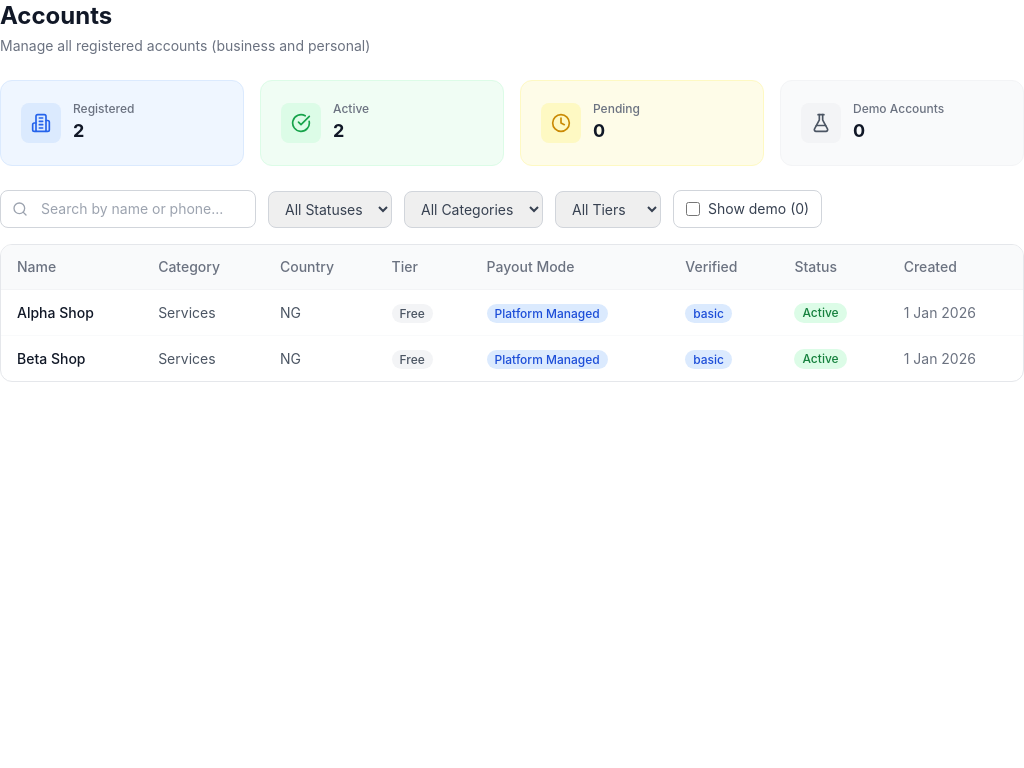
Test case: #762 actual Businesses ancillary resource parity › uses stock_quantity, retains zero/null, scopes every read and masks both accounts
This screenshot has width=1024, height=768.
Click the text "Alpha Shop" at (55, 312), box [17,304,94,320]
(page scrolled)
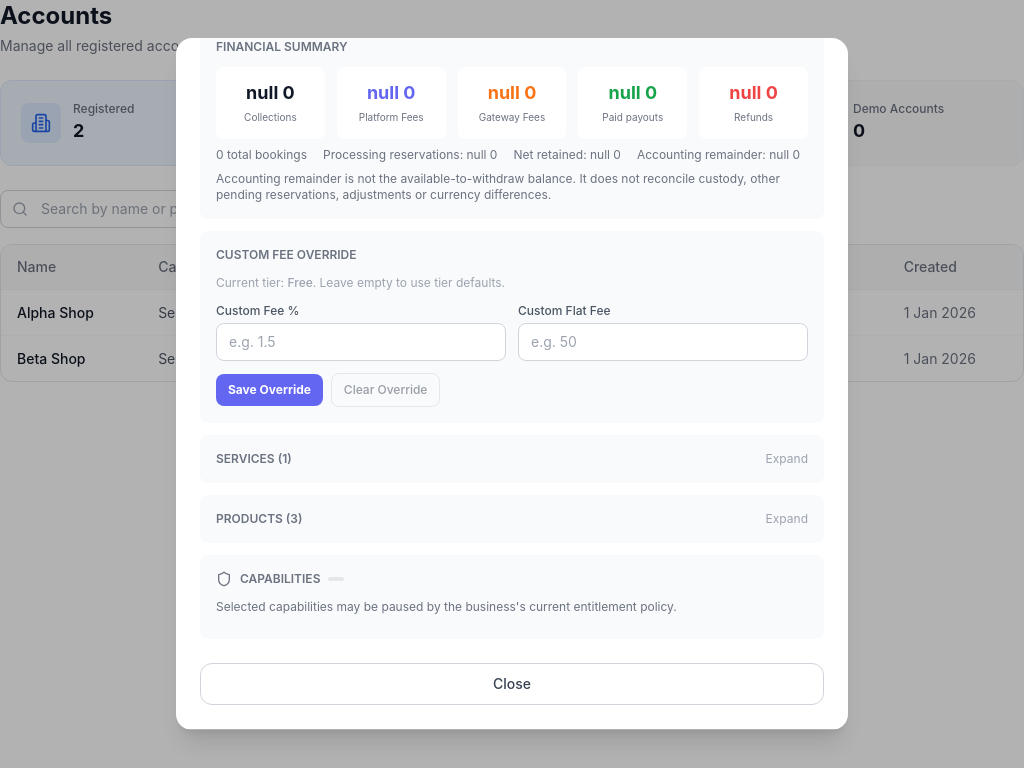
Click the button "Services (1) Expand" at (245, 459), box [216,451,808,467]
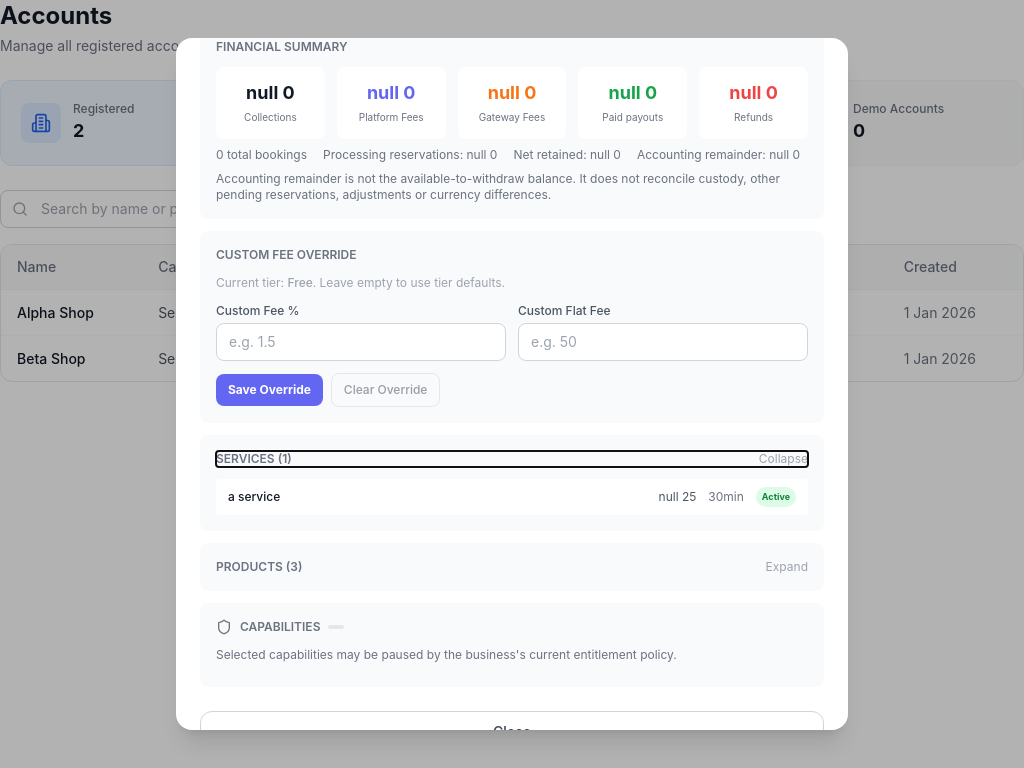
Click the button "Products (3) Expand" at (249, 567), box [216,559,808,575]
(page scrolled)
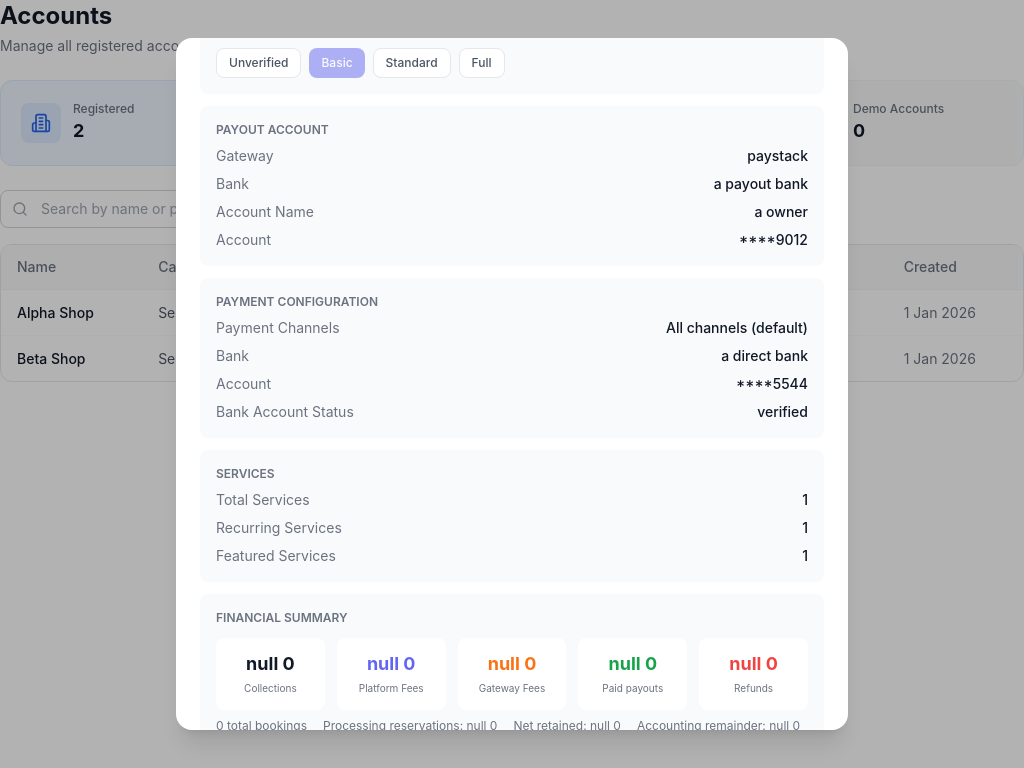
Check: the text "****9012" is shown, box [739,230,808,250]
Check: the text "****5544" is shown, box [736,374,808,394]
